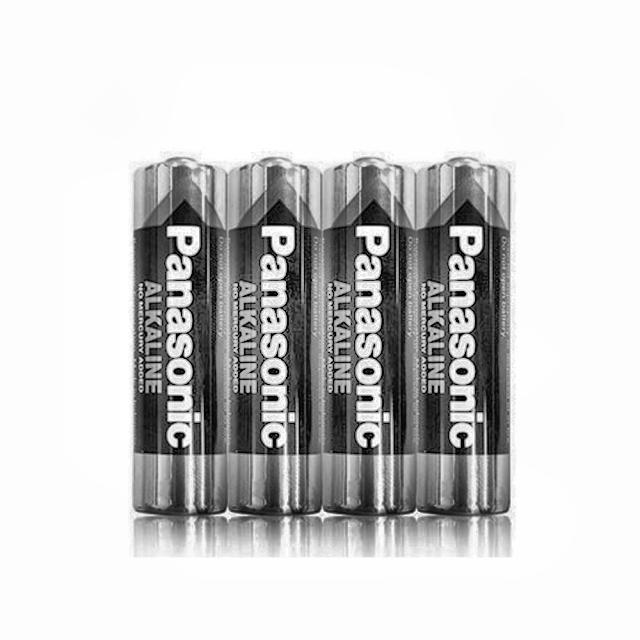drycell: (415, 154, 512, 516), (131, 155, 228, 515), (228, 155, 324, 514), (325, 152, 417, 515)
